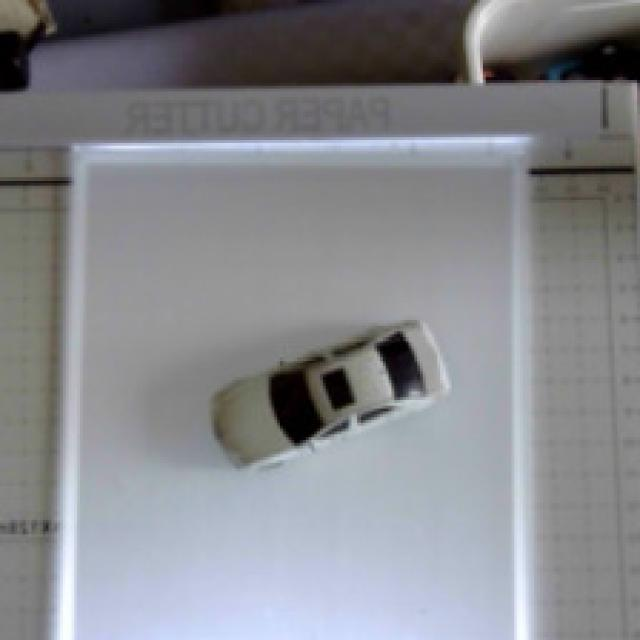Grey Car: (177, 286, 474, 501)
